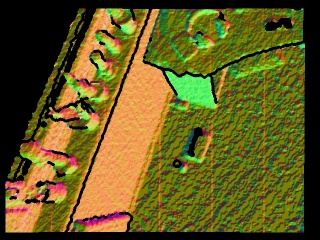station: (183, 127, 211, 164)
